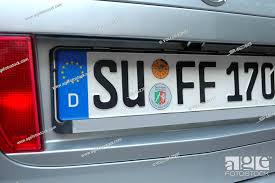0: (260, 63, 275, 100)
1: (224, 60, 244, 104)
7: (242, 61, 261, 102)
F: (173, 61, 196, 107), (197, 61, 220, 105)
S: (90, 59, 118, 109)
U: (120, 58, 147, 109)
